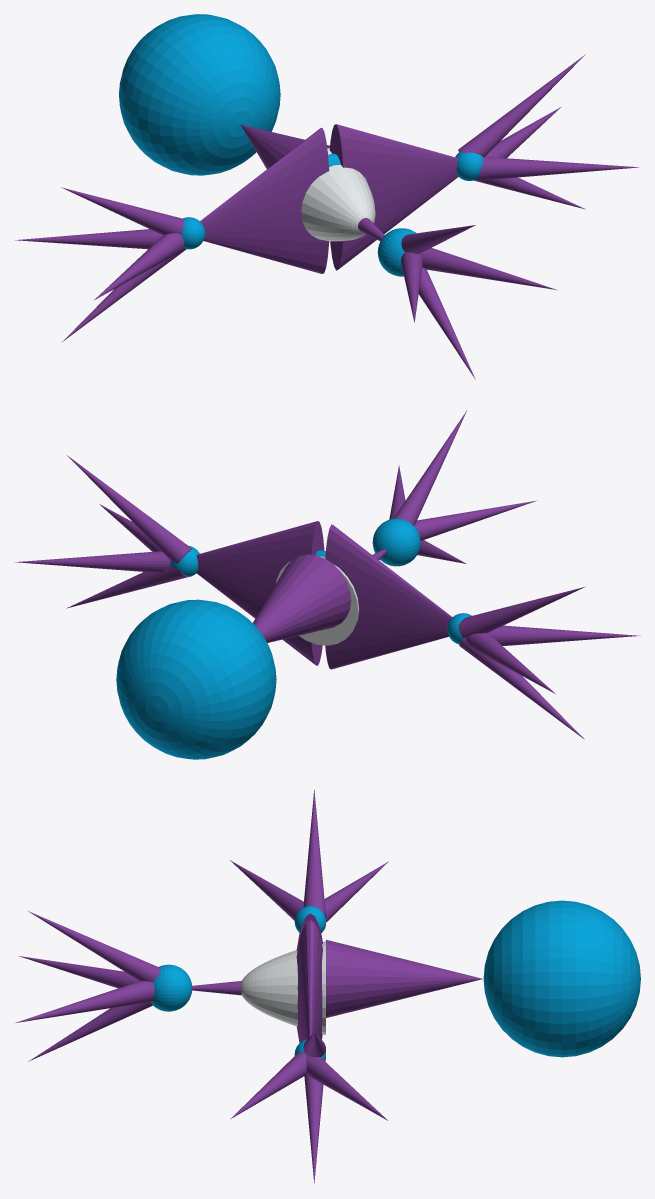
File: tinker.obj
3 views of the same model, one above another, from view 1: azimuth 30°, elevation 25°; view 2: azimuth 150°, elevation 25°; view 3: azimuth 270°, elevation 25° (orthographic). The views are drawn at different scales.
Visible parts, largest first — view 1: group_0_8273816, group_0_40919, group_0_14541540; view 2: group_0_8273816, group_0_40919, group_0_14541540; view 3: group_0_8273816, group_0_40919, group_0_14541540.
Boxes of the visible parts, x1,y1,x2,y2 form: group_0_8273816: [15, 54, 638, 379]; group_0_40919: [119, 14, 483, 276]; group_0_14541540: [301, 148, 375, 241]; group_0_8273816: [15, 411, 640, 739]; group_0_40919: [116, 518, 471, 759]; group_0_14541540: [276, 556, 359, 645]; group_0_8273816: [14, 790, 482, 1182]; group_0_40919: [151, 900, 640, 1059]; group_0_14541540: [241, 941, 325, 1034].
Bounding box in the file's own units: 78.66 × 22.29 × 79.66.
